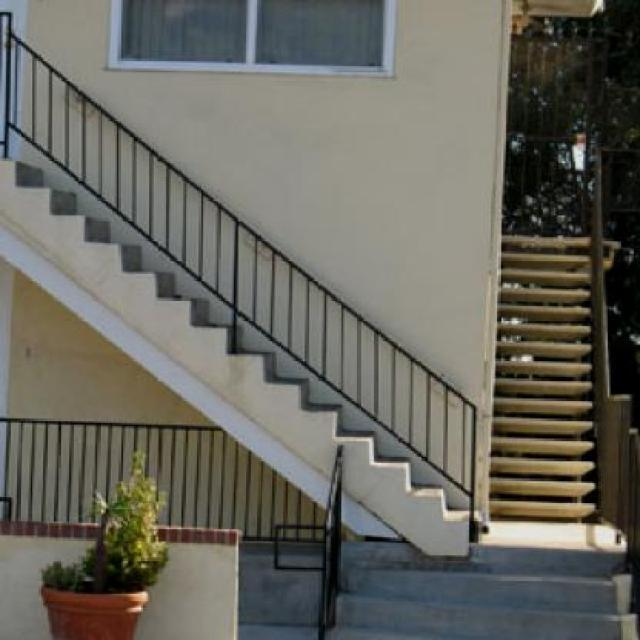stair: (1, 20, 502, 563), (480, 192, 634, 563)
